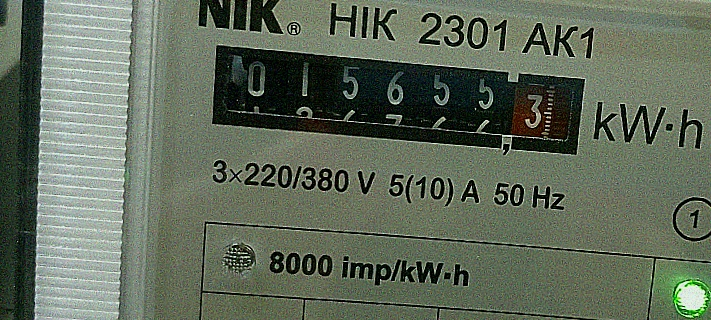0: (241, 56, 269, 98)
1: (293, 59, 315, 99)
3: (521, 91, 543, 129)
5: (335, 64, 362, 101), (428, 73, 453, 107), (475, 77, 496, 110)
6: (382, 68, 408, 106)
screen: (194, 28, 599, 171)
